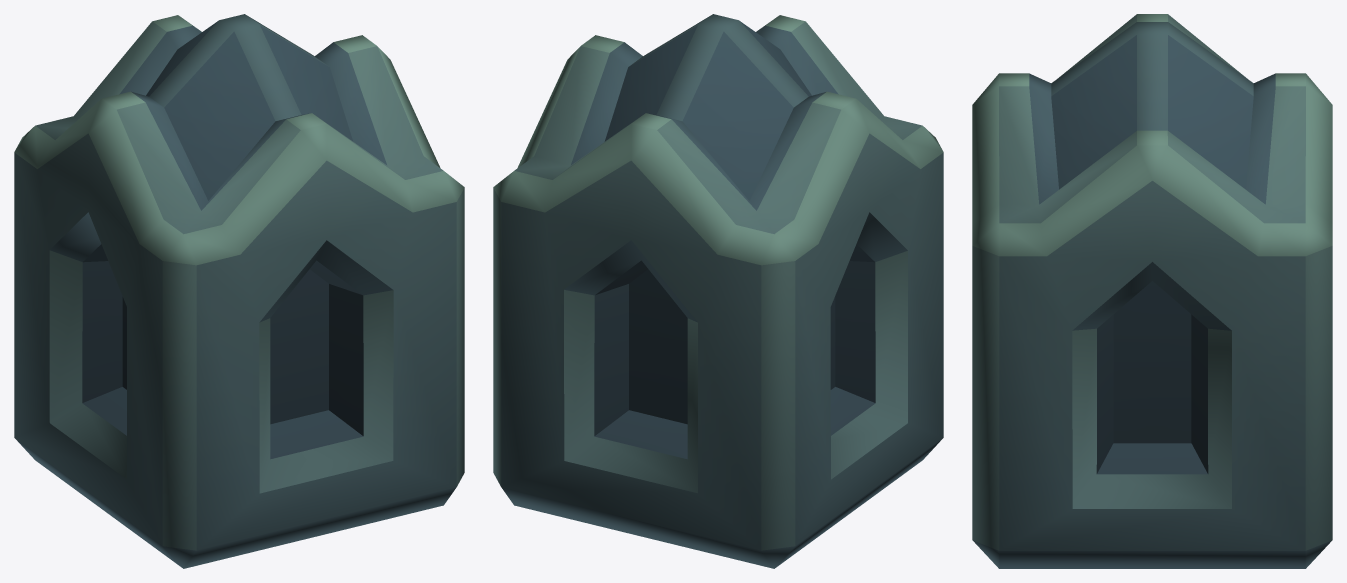
The model's file is torch_5.fbx.
3 views of the same model, side by side, from view 1: azimuth 30°, elevation 25°; view 2: azimuth 150°, elevation 25°; view 3: azimuth 270°, elevation 25° (orthographic). The views are drawn at different scales.
Visible parts, largest first — view 1: torch_5; view 2: torch_5; view 3: torch_5.
Part boxes in pixels (x1=…): torch_5: x1=14, y1=14, x2=464, y2=568; torch_5: x1=493, y1=14, x2=943, y2=568; torch_5: x1=972, y1=14, x2=1332, y2=568.
Size of the model in its own units: 68.72 by 100 by 68.72.
